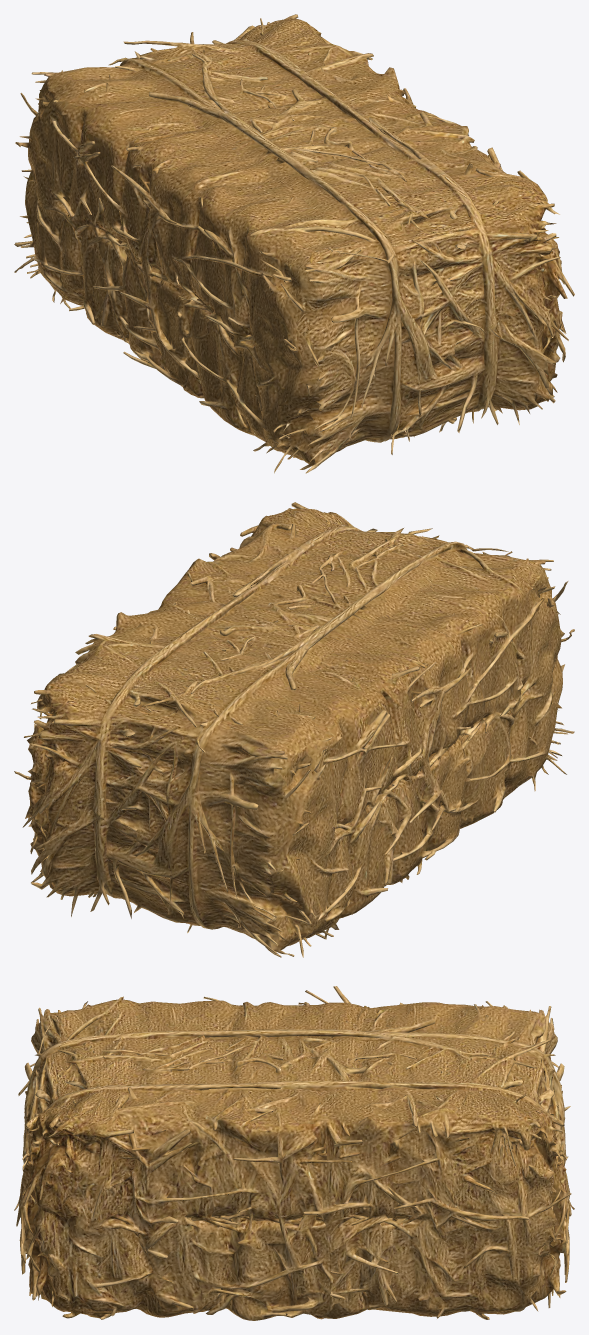
File: hay.glb
3 renders of one model, top to bottom at view 1: azimuth 30°, elevation 25°; view 2: azimuth 150°, elevation 25°; view 3: azimuth 270°, elevation 25°, orthographic. The views are drawn at different scales.
Parts seen in each view (by area): view 1: tripo_node_ef968d5a-51a0-4a20-95ca-2cbdb476e3ce; view 2: tripo_node_ef968d5a-51a0-4a20-95ca-2cbdb476e3ce; view 3: tripo_node_ef968d5a-51a0-4a20-95ca-2cbdb476e3ce.
Boxes of the visible parts, x1,y1,x2,y2 form: tripo_node_ef968d5a-51a0-4a20-95ca-2cbdb476e3ce: (14,14,574,473); tripo_node_ef968d5a-51a0-4a20-95ca-2cbdb476e3ce: (14,502,574,957); tripo_node_ef968d5a-51a0-4a20-95ca-2cbdb476e3ce: (14,986,574,1320).
Bounding box in the file's own units: 0.5844 × 0.4378 × 1.
1 material, 1 textured.
